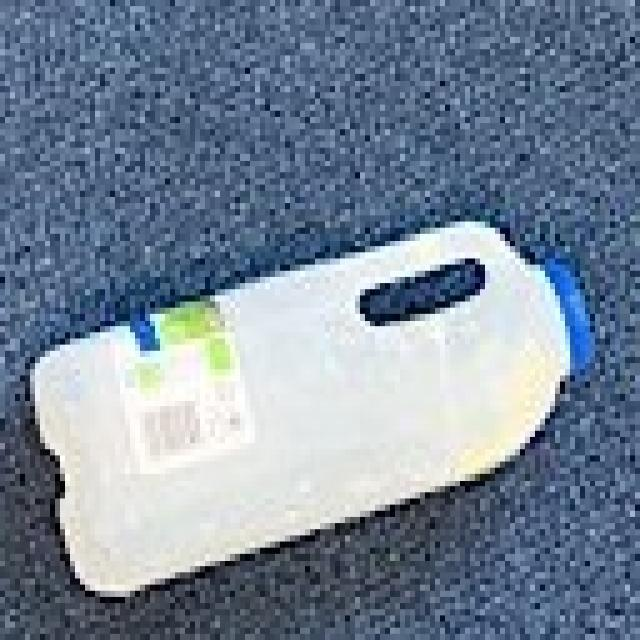HDPE Plastic: (26, 217, 598, 603)
